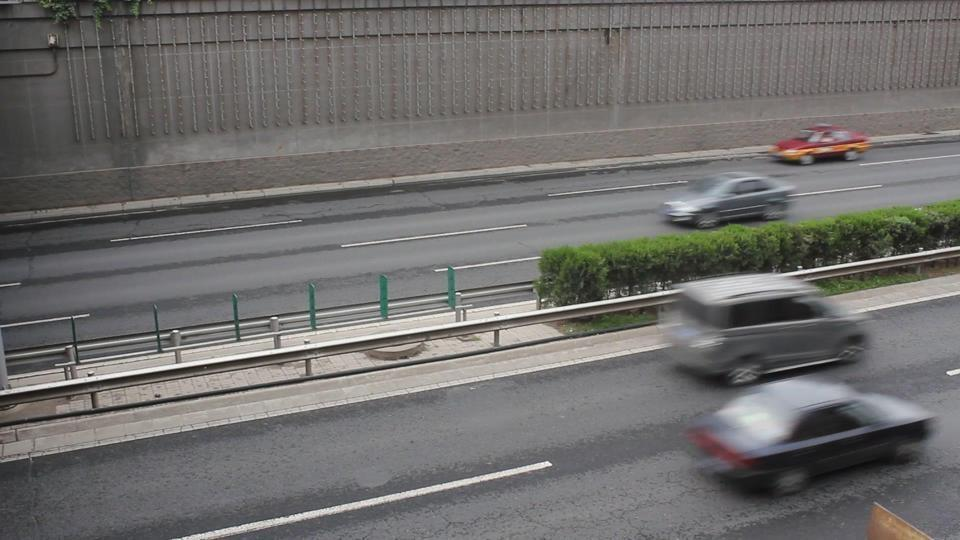car: (680, 375, 944, 497), (656, 272, 871, 387), (656, 175, 797, 230), (769, 125, 872, 165)
